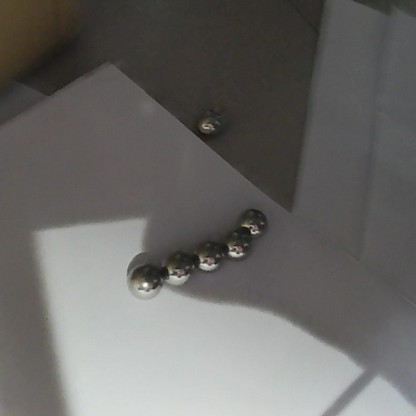ironball: (124, 263, 162, 301), (159, 250, 196, 289), (194, 103, 227, 138), (237, 203, 269, 236), (194, 239, 224, 272), (221, 229, 249, 260)
